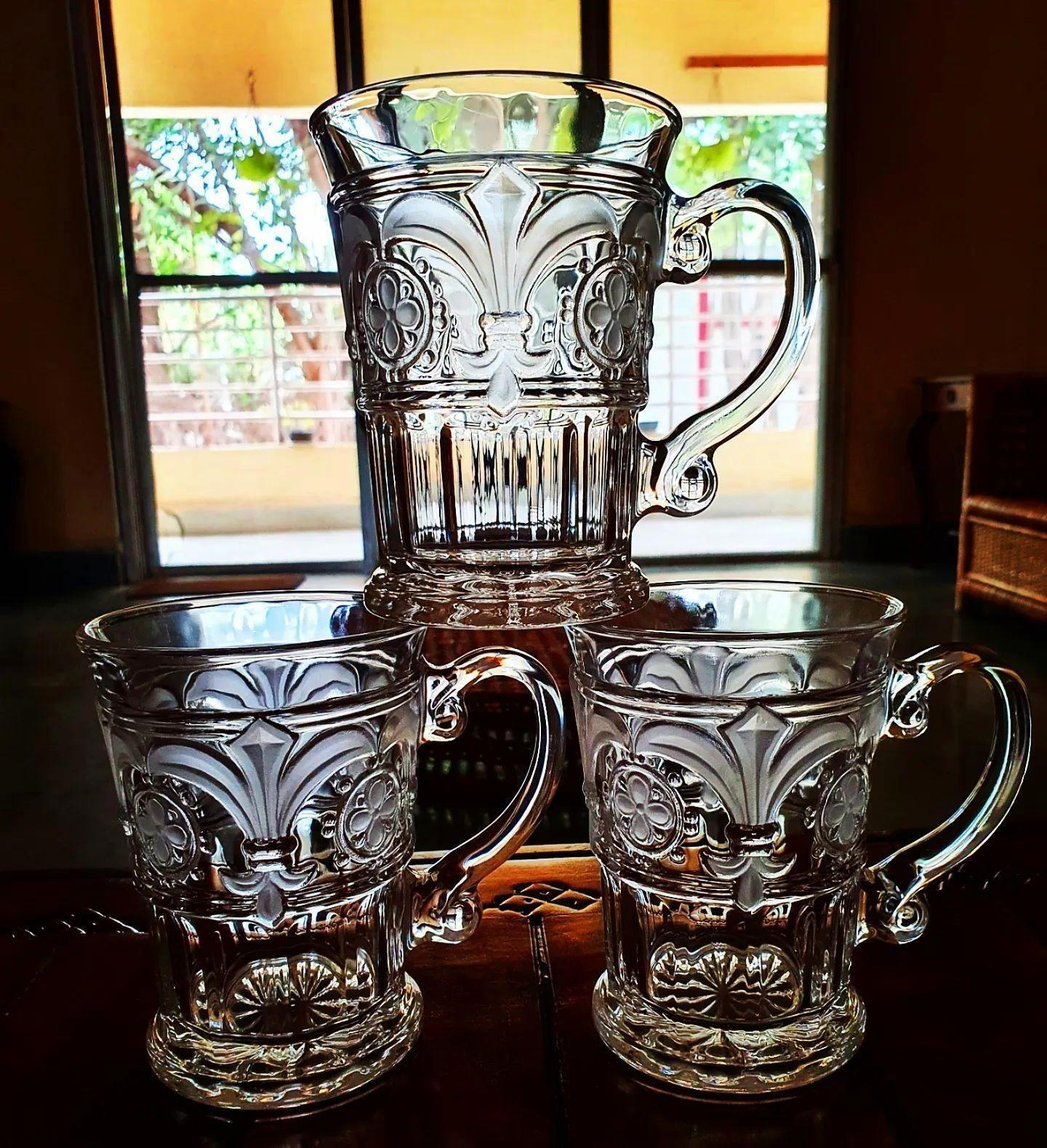glass-mug: (294, 66, 814, 614), (66, 592, 564, 1123), (555, 567, 1035, 1113)
